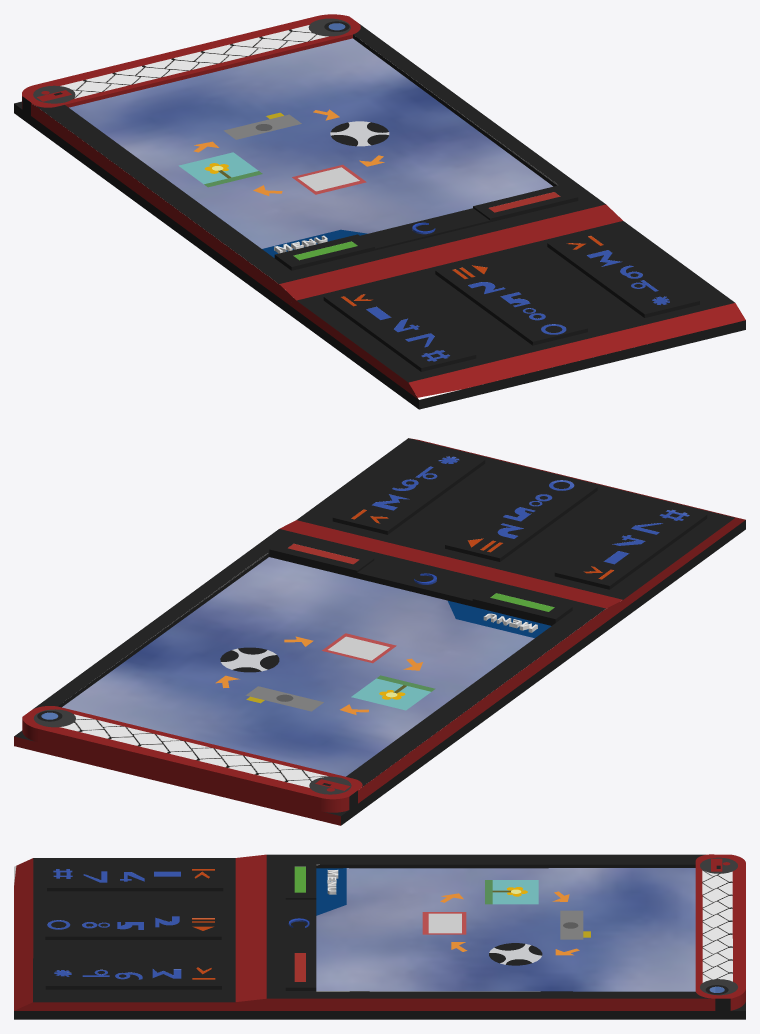
The picture shows the model from 3 angles, top to bottom: view 1: azimuth 30°, elevation 25°; view 2: azimuth 150°, elevation 25°; view 3: azimuth 270°, elevation 25°; orthographic projection. The views are drawn at different scales.
Visible parts, largest first — view 1: mesh9-geometry-3, mesh9-geometry-10, mesh9-geometry-2, mesh9-geometry-11, mesh9-geometry-0, mesh9-geometry-7, mesh9-geometry-13, mesh9-geometry-20, mesh9-geometry-21; view 2: mesh9-geometry-3, mesh9-geometry-10, mesh9-geometry-2, mesh9-geometry-11, mesh9-geometry-0, mesh9-geometry-7, mesh9-geometry-9, mesh9-geometry-13, mesh9-geometry-20, mesh9-geometry-21; view 3: mesh9-geometry-3, mesh9-geometry-10, mesh9-geometry-2, mesh9-geometry-11, mesh9-geometry-0, mesh9-geometry-7, mesh9-geometry-9, mesh9-geometry-13, mesh9-geometry-20, mesh9-geometry-21, mesh9-geometry-17, mesh9-geometry-12 (+5 smaller).
Boxes of the visible parts, box(x1,y1,x2,y2) form: mesh9-geometry-3: box(14, 21, 745, 409); mesh9-geometry-10: box(69, 38, 552, 248); mesh9-geometry-2: box(22, 14, 745, 399); mesh9-geometry-11: box(60, 25, 328, 98); mesh9-geometry-0: box(33, 18, 669, 360); mesh9-geometry-7: box(366, 222, 669, 361); mesh9-geometry-13: box(178, 152, 258, 184); mesh9-geometry-20: box(298, 167, 359, 191); mesh9-geometry-21: box(223, 114, 301, 139); mesh9-geometry-3: box(14, 438, 745, 825); mesh9-geometry-10: box(62, 557, 534, 776); mesh9-geometry-2: box(14, 438, 745, 825); mesh9-geometry-11: box(60, 714, 329, 787); mesh9-geometry-0: box(33, 457, 687, 794); mesh9-geometry-7: box(372, 456, 689, 584); mesh9-geometry-9: box(448, 600, 551, 638); mesh9-geometry-13: box(351, 678, 430, 710); mesh9-geometry-20: box(328, 636, 389, 660); mesh9-geometry-21: box(245, 686, 323, 711); mesh9-geometry-3: box(14, 854, 745, 1019); mesh9-geometry-10: box(316, 868, 695, 991); mesh9-geometry-2: box(14, 854, 745, 1010); mesh9-geometry-11: box(702, 870, 732, 982); mesh9-geometry-0: box(48, 857, 737, 995); mesh9-geometry-7: box(47, 869, 309, 979); mesh9-geometry-9: box(316, 868, 346, 915); mesh9-geometry-13: box(492, 880, 538, 904); mesh9-geometry-20: box(428, 913, 461, 933); mesh9-geometry-21: box(560, 910, 583, 939); mesh9-geometry-17: box(489, 944, 541, 964); mesh9-geometry-12: box(440, 891, 579, 955).
Size of the model in its own units: 0.4224 by 0.038 by 0.9056.
Materials: 26 (2 with a texture image).
